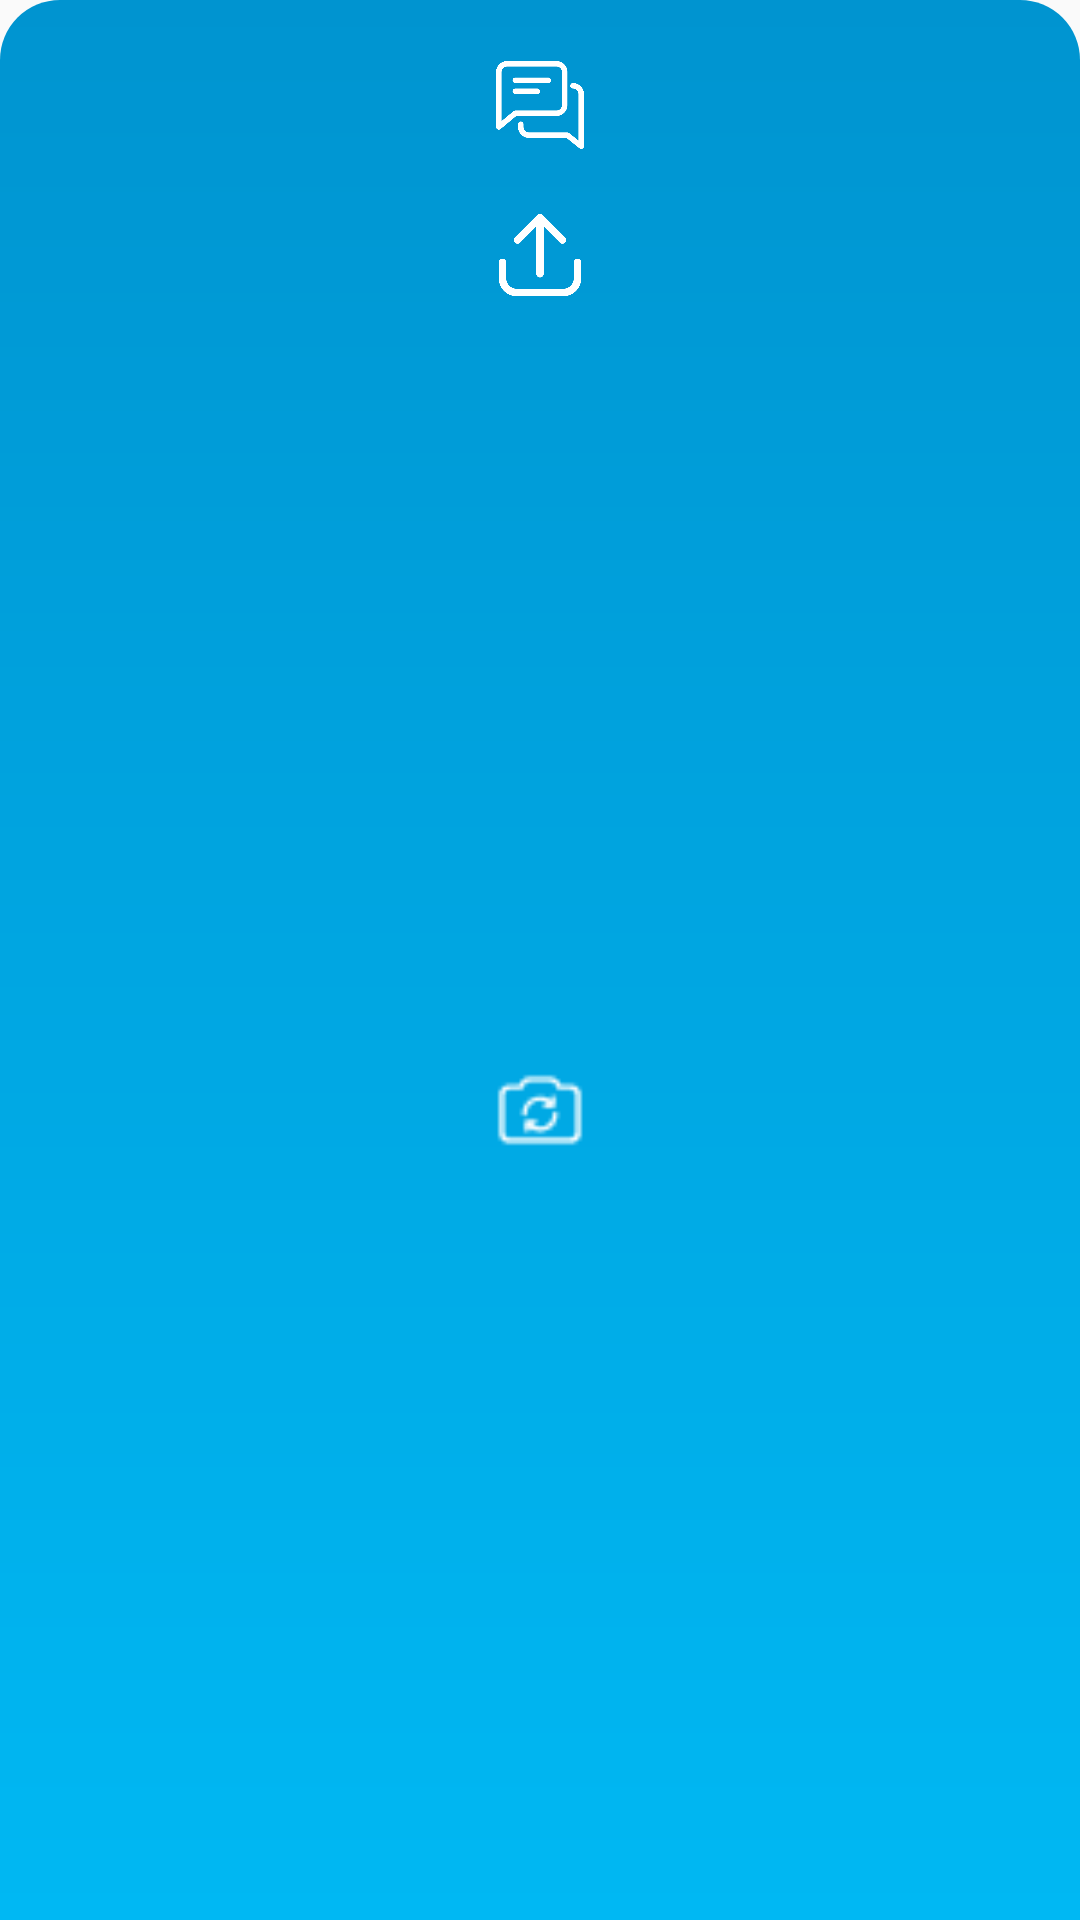

Named icons in this screenshot (1080px×1920px) and their bounding boxes, detection(x1, y1, x2, y2):
camera rotate: detection(497, 1075, 583, 1145)
chat: detection(496, 61, 584, 149)
upload: detection(499, 214, 581, 296)
